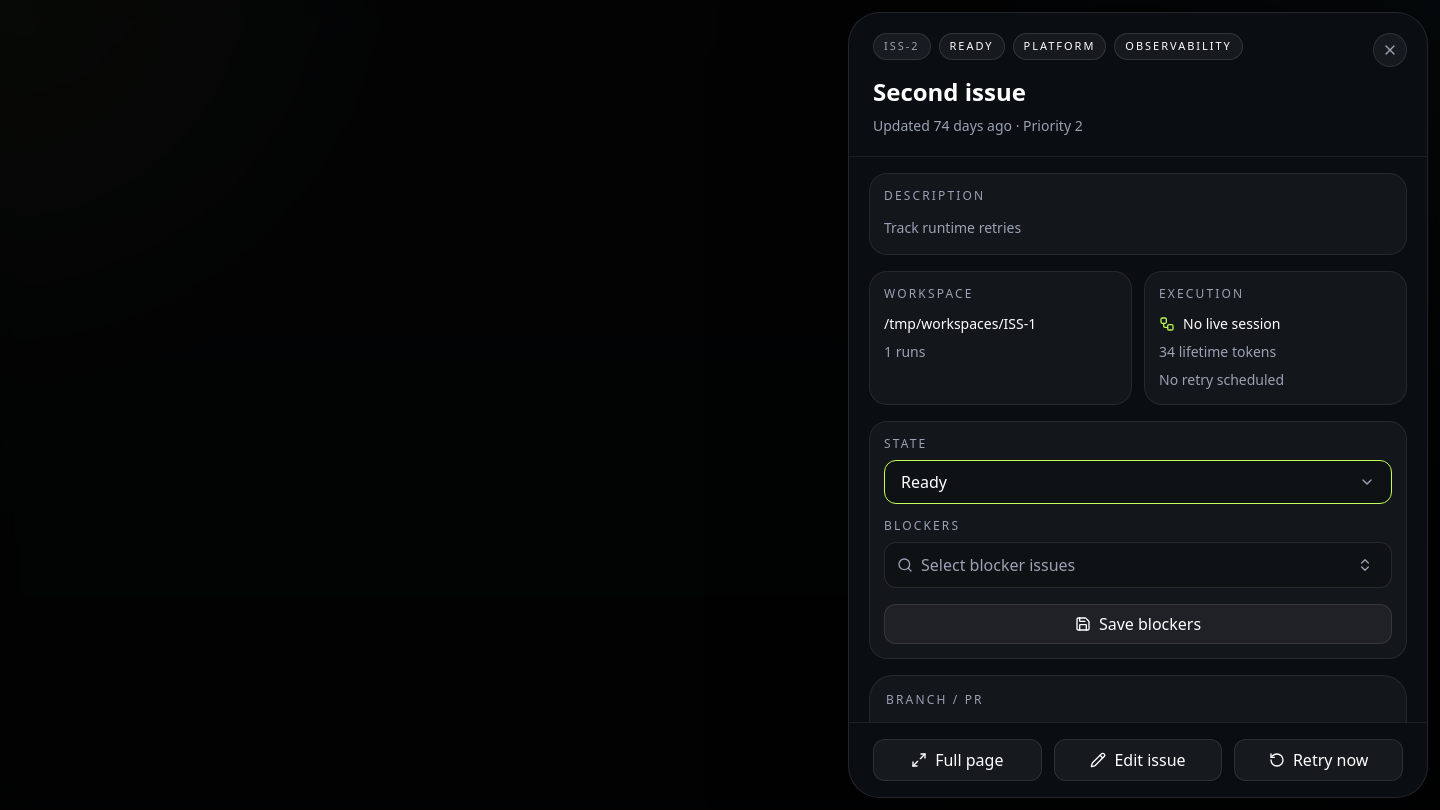
IssuePreviewSheet › keeps actions scoped to the currently selected issue while detail loads
The image size is (1440, 810).
Expected: the heading "Second issue" is shown, [873,74,1026,108]
Click the button "Retry now" at [1319, 760], box [1234,739,1403,781]
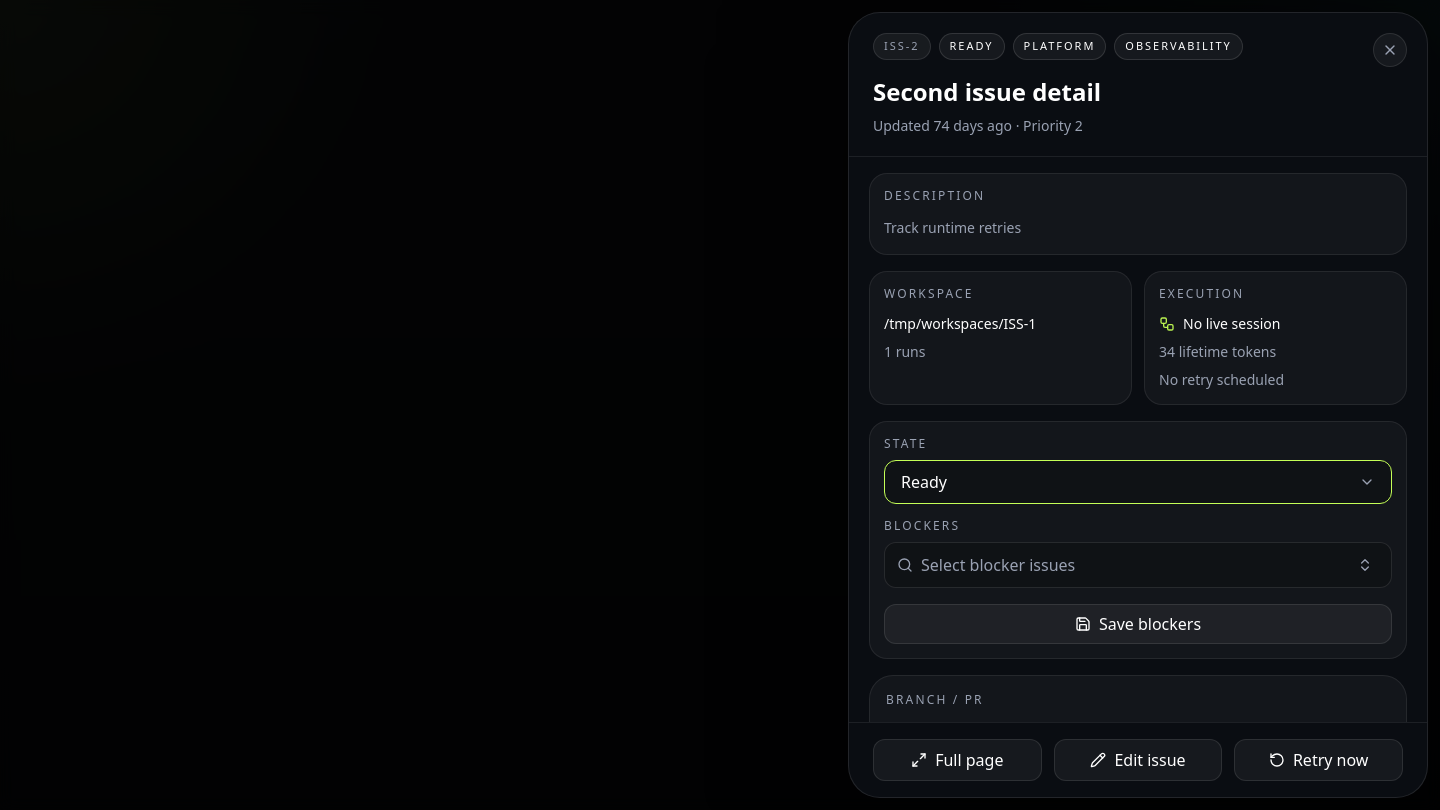
Result: the heading "Second issue detail" is shown at [873,74,1101,108]
